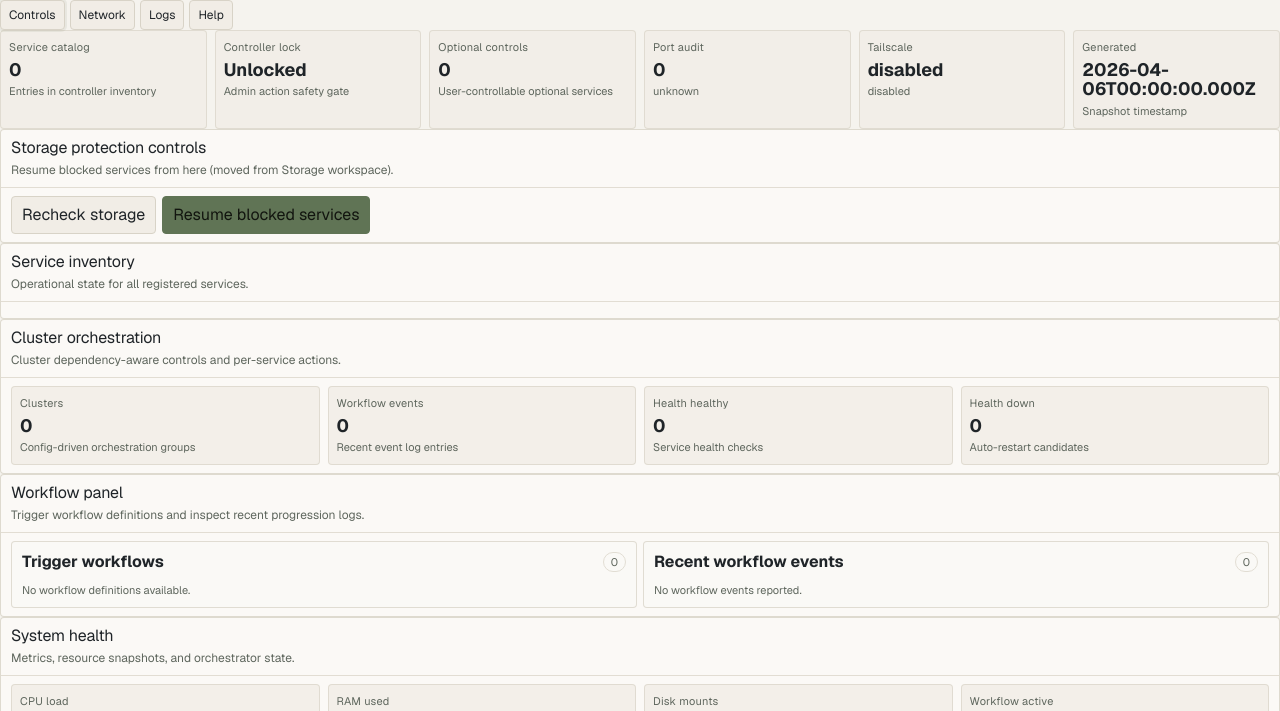
WorkspaceViewport › shows watchdog helper missing status in settings storage controls
Click the button "Recheck storage". click: (84, 215)
box: [11, 196, 156, 234]
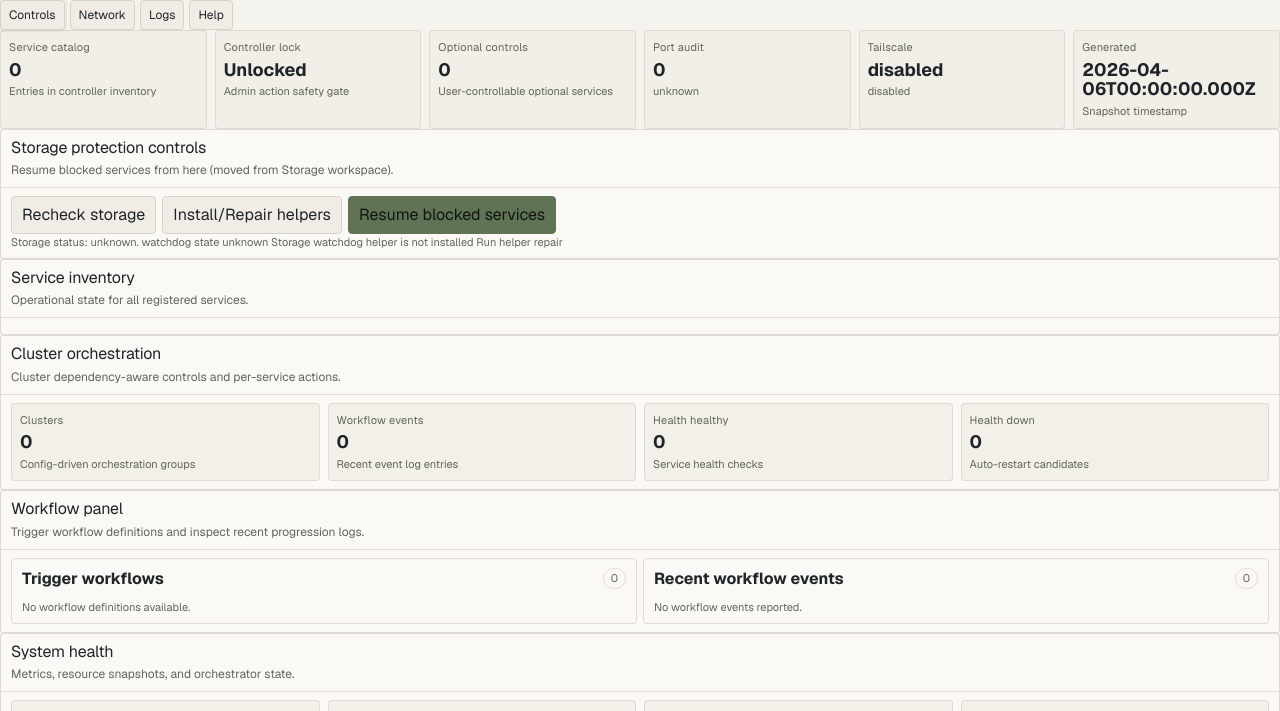
Check: the button "Install/Repair helpers" is shown, box [162, 196, 342, 234]
